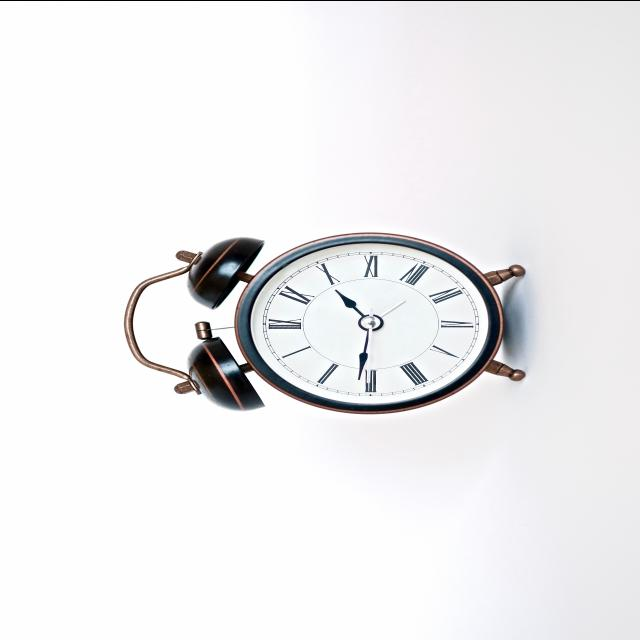clock: (112, 193, 542, 479)
